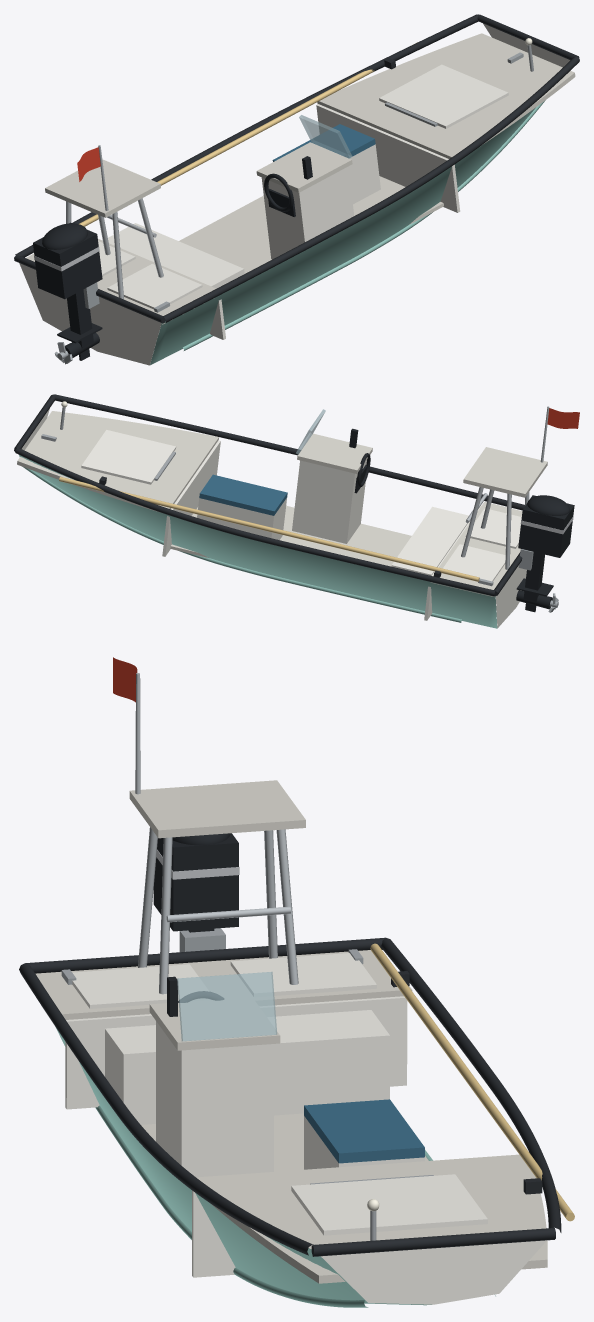
Rendered from saltmarsh-skiff.glb.
The picture shows the model from 3 angles, top to bottom: view 1: azimuth 30°, elevation 25°; view 2: azimuth 150°, elevation 25°; view 3: azimuth 270°, elevation 25°; orthographic projection. The views are drawn at different scales.
Visible parts, largest first — view 1: casting_deck, hull_shell, cockpit_sole, console_body, transom, fore_hatch, casting_deck_face, rub_rail_stbd, platform_top, rear_bench, cowling, console_top (+16 smaller); view 2: hull_shell, casting_deck, console_body, rub_rail_port, fore_hatch, platform_top, rear_bench, rub_rail_stbd, cockpit_sole, cooler_cushion, push_pole, cowling (+14 smaller); view 3: casting_deck, console_body, rear_bench, bow_panel, fore_hatch, platform_top, hull_shell, rear_deck_face, windscreen, rear_deck, cooler_cushion, cowling (+21 smaller).
Part boxes in pixels (x1=…): casting_deck: x1=317, y1=33, x2=575, y2=158; hull_shell: x1=150, y1=107, x2=535, y2=365; cockpit_sole: x1=179, y1=176, x2=443, y2=273; console_body: x1=261, y1=166, x2=354, y2=259; transom: x1=19, y1=263, x2=161, y2=365; fore_hatch: x1=379, y1=64, x2=508, y2=128; casting_deck_face: x1=316, y1=104, x2=460, y2=212; rub_rail_stbd: x1=163, y1=56, x2=579, y2=322; platform_top: x1=45, y1=159, x2=160, y2=217; rear_bench: x1=108, y1=223, x2=244, y2=288; cowling: x1=33, y1=222, x2=102, y2=299; console_top: x1=256, y1=142, x2=352, y2=192; hull_shell: x1=19, y1=455, x2=497, y2=628; casting_deck: x1=17, y1=411, x2=218, y2=512; console_body: x1=292, y1=460, x2=366, y2=543; rub_rail_port: x1=15, y1=447, x2=495, y2=596; fore_hatch: x1=81, y1=430, x2=176, y2=484; platform_top: x1=463, y1=447, x2=547, y2=497; rear_bench: x1=391, y1=506, x2=468, y2=575; rub_rail_stbd: x1=54, y1=394, x2=524, y2=510; cockpit_sole: x1=170, y1=505, x2=411, y2=566; cooler_cushion: x1=199, y1=474, x2=287, y2=515; push_pole: x1=59, y1=477, x2=479, y2=581; cowling: x1=518, y1=495, x2=574, y2=557; casting_deck: x1=196, y1=1154, x2=547, y2=1283; console_body: x1=156, y1=1021, x2=273, y2=1177; rear_bench: x1=105, y1=1010, x2=389, y2=1124; bow_panel: x1=321, y1=1240, x2=546, y2=1304; fore_hatch: x1=291, y1=1174, x2=487, y2=1235; platform_top: x1=129, y1=780, x2=305, y2=838; hull_shell: x1=56, y1=1028, x2=431, y2=1305; rear_deck_face: x1=65, y1=996, x2=407, y2=1109; windscreen: x1=177, y1=971, x2=277, y2=1041; rear_deck: x1=35, y1=950, x2=412, y2=1019; cooler_cushion: x1=304, y1=1099, x2=424, y2=1163; cowling: x1=153, y1=833, x2=238, y2=931.
Bounding box in the file's own units: 5.38 × 2.04 × 2.64.
